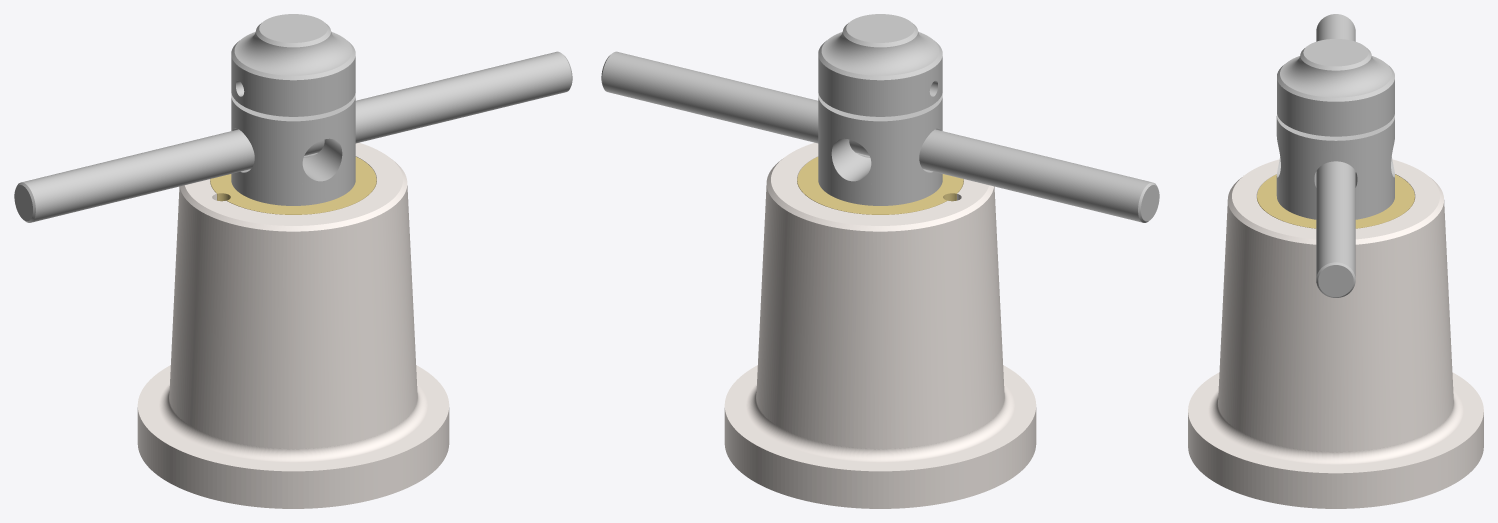
3 renders of one model, left to right at view 1: azimuth 30°, elevation 25°; view 2: azimuth 150°, elevation 25°; view 3: azimuth 270°, elevation 25°, orthographic. The views are drawn at different scales.
Visible parts, largest first — view 1: 圆角3, 倒角1, M8_螺纹孔1, 切除-扫描1, M10x10_螺纹孔1; view 2: 圆角3, 倒角1, M8_螺纹孔1, 切除-扫描1, M10x10_螺纹孔1; view 3: 圆角3, M8_螺纹孔1, 切除-扫描1, 倒角1, M10x10_螺纹孔1.
Boxes of the visible parts, x1=… form: 圆角3: x1=137, y1=142, x2=449, y2=508; 倒角1: x1=14, y1=51, x2=572, y2=222; M8_螺纹孔1: x1=231, y1=14, x2=355, y2=116; 切除-扫描1: x1=231, y1=93, x2=355, y2=205; M10x10_螺纹孔1: x1=210, y1=157, x2=376, y2=214; 圆角3: x1=724, y1=142, x2=1036, y2=508; 倒角1: x1=601, y1=51, x2=1159, y2=222; M8_螺纹孔1: x1=818, y1=14, x2=942, y2=116; 切除-扫描1: x1=818, y1=93, x2=942, y2=205; M10x10_螺纹孔1: x1=797, y1=157, x2=963, y2=214; 圆角3: x1=1188, y1=159, x2=1483, y2=508; M8_螺纹孔1: x1=1277, y1=39, x2=1394, y2=136; 切除-扫描1: x1=1276, y1=114, x2=1394, y2=219; 倒角1: x1=1316, y1=14, x2=1355, y2=297; M10x10_螺纹孔1: x1=1257, y1=174, x2=1414, y2=228.
Bounding box in the file's own units: 30 × 23.04 × 15.
